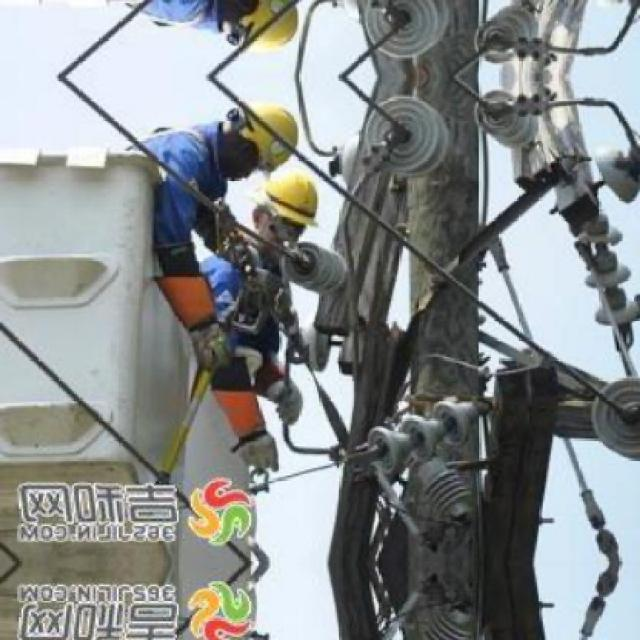helmet: (259, 160, 323, 245), (232, 97, 310, 165), (231, 0, 310, 55)
